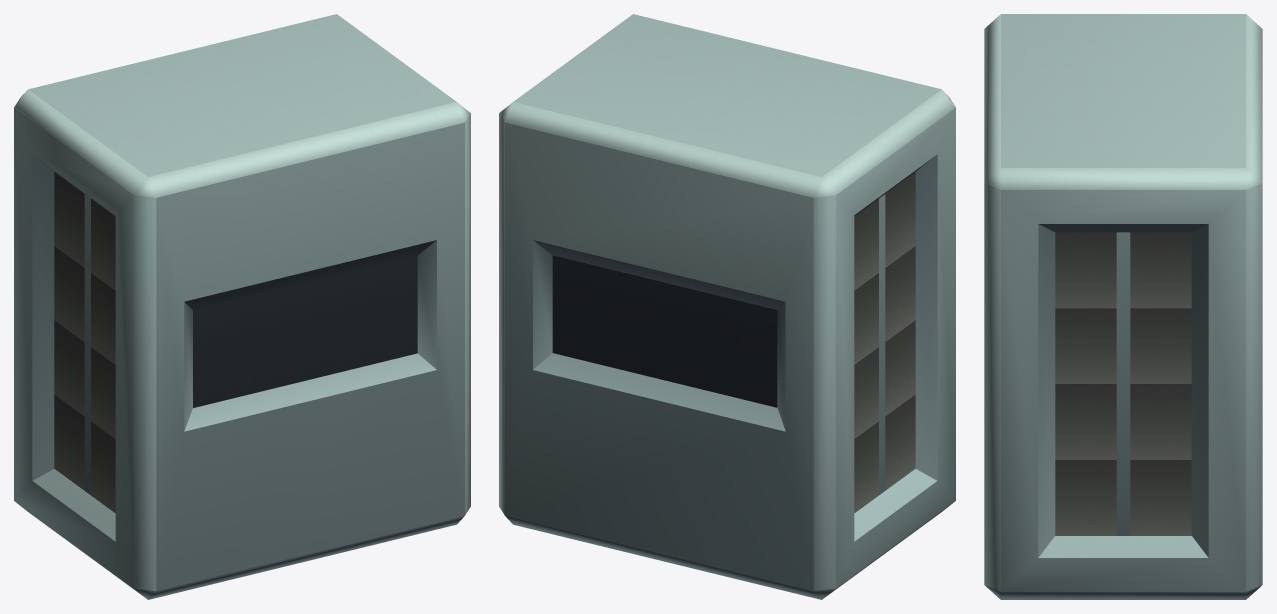
The model's file is air_duct_box.fbx.
3 views of the same model, side by side, from view 1: azimuth 30°, elevation 25°; view 2: azimuth 150°, elevation 25°; view 3: azimuth 270°, elevation 25° (orthographic). The views are drawn at different scales.
Visible parts, largest first — view 1: air_duct_box; view 2: air_duct_box; view 3: air_duct_box.
Boxes of the visible parts, <box> form: air_duct_box: <box>14,14,470,599</box>; air_duct_box: <box>499,14,955,599</box>; air_duct_box: <box>984,14,1262,599</box>.
Bounding box in the file's own units: 121 × 146 × 85.14.
